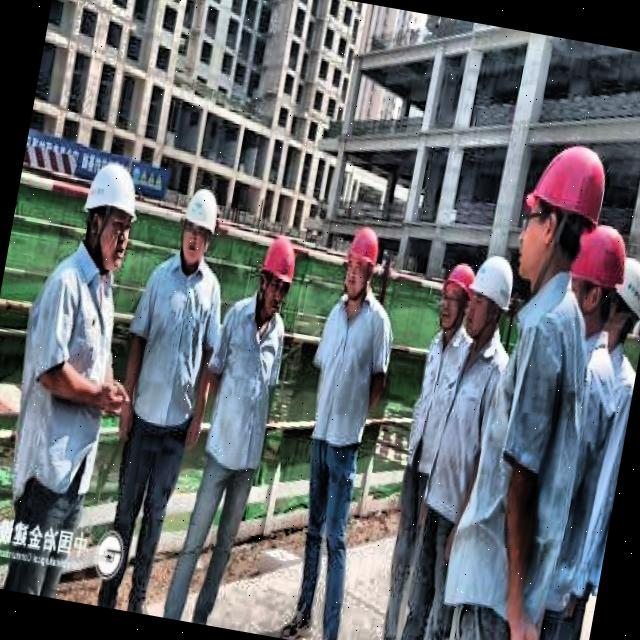helmet: (506, 141, 622, 312), (556, 212, 640, 343), (69, 152, 151, 276), (248, 223, 302, 324), (462, 252, 519, 344), (171, 178, 225, 272), (334, 215, 388, 308), (591, 249, 640, 349), (435, 254, 480, 328)
